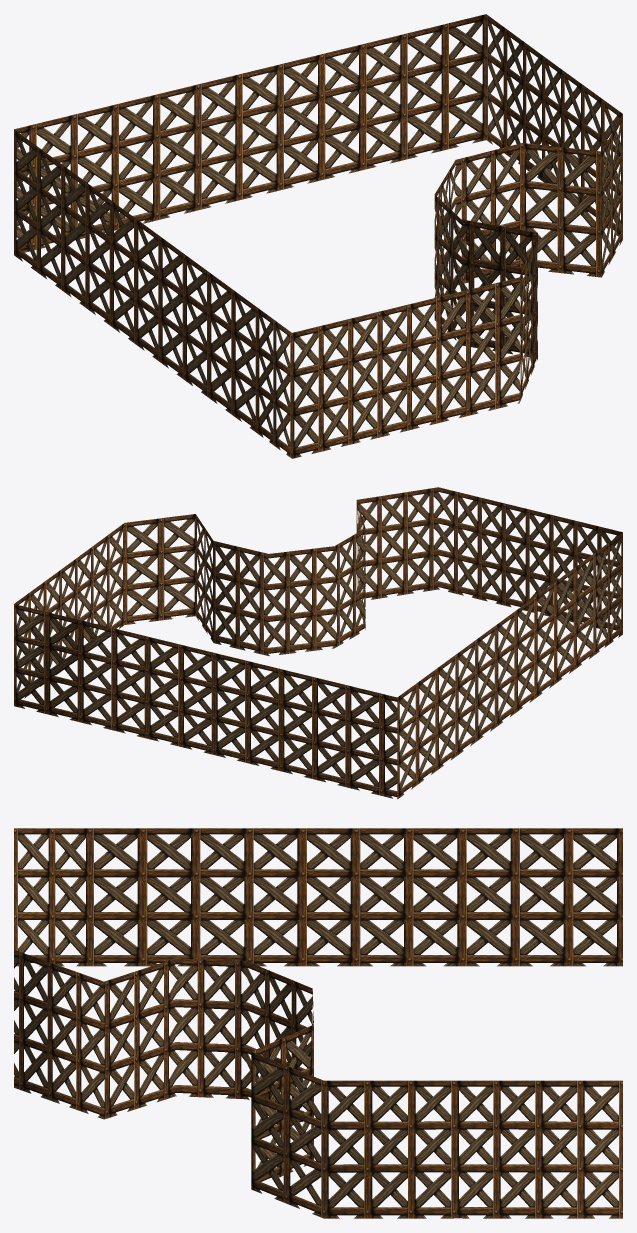
File: LAKETOWN_EXTERIOR_PS_LT_INSIDE_WALL_01.fbx
The picture shows the model from 3 angles, top to bottom: view 1: azimuth 30°, elevation 25°; view 2: azimuth 150°, elevation 25°; view 3: azimuth 270°, elevation 25°; orthographic projection. The views are drawn at different scales.
Visible parts, largest first — view 1: LAKETOWN_EXTERIOR_PS_LT_INSIDE_WALL_01; view 2: LAKETOWN_EXTERIOR_PS_LT_INSIDE_WALL_01; view 3: LAKETOWN_EXTERIOR_PS_LT_INSIDE_WALL_01.
Boxes of the visible parts, left/top/right/bottom form: LAKETOWN_EXTERIOR_PS_LT_INSIDE_WALL_01: left=14, top=14, right=622, bottom=458; LAKETOWN_EXTERIOR_PS_LT_INSIDE_WALL_01: left=14, top=487, right=622, bottom=799; LAKETOWN_EXTERIOR_PS_LT_INSIDE_WALL_01: left=14, top=828, right=622, bottom=1218.
Size of the model in its own units: 283563 by 72254 by 289032.
1 material, 1 textured.
